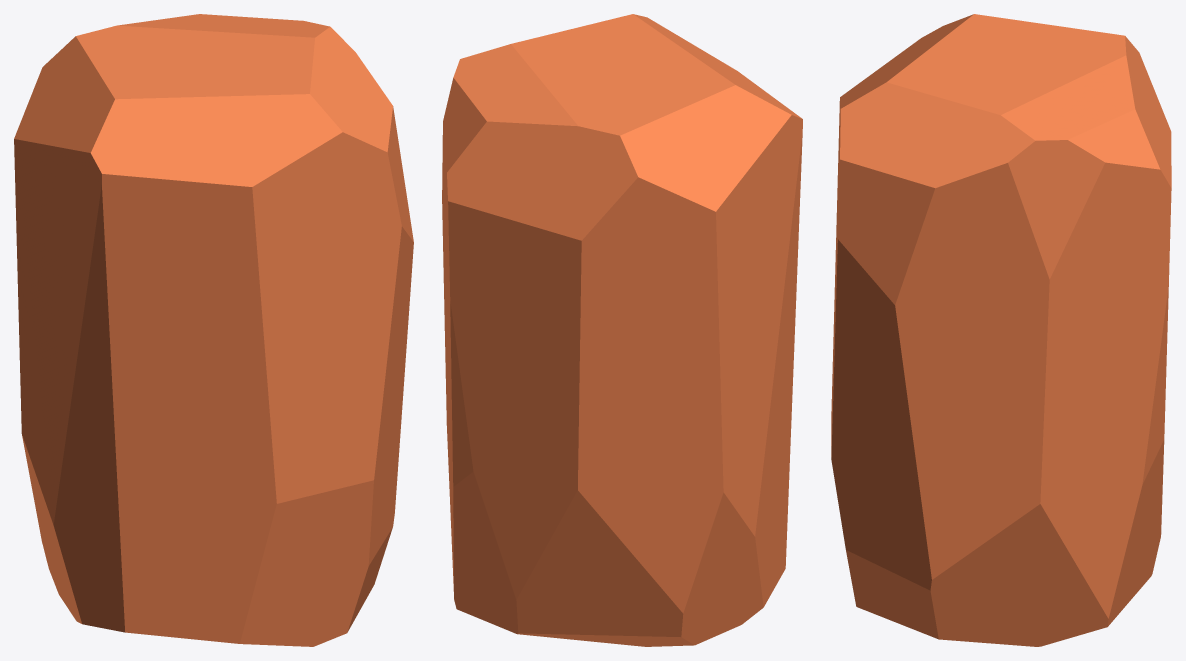
The picture shows the model from 3 angles, left to right: view 1: azimuth 30°, elevation 25°; view 2: azimuth 150°, elevation 25°; view 3: azimuth 270°, elevation 25°; orthographic projection. The views are drawn at different scales.
Visible parts, largest first — view 1: Rock_5; view 2: Rock_5; view 3: Rock_5.
Boxes of the visible parts, x1=… form: Rock_5: x1=14, y1=14, x2=413, y2=646; Rock_5: x1=442, y1=14, x2=802, y2=646; Rock_5: x1=831, y1=14, x2=1171, y2=646.
Size of the model in its own units: 420 by 741 by 430.
